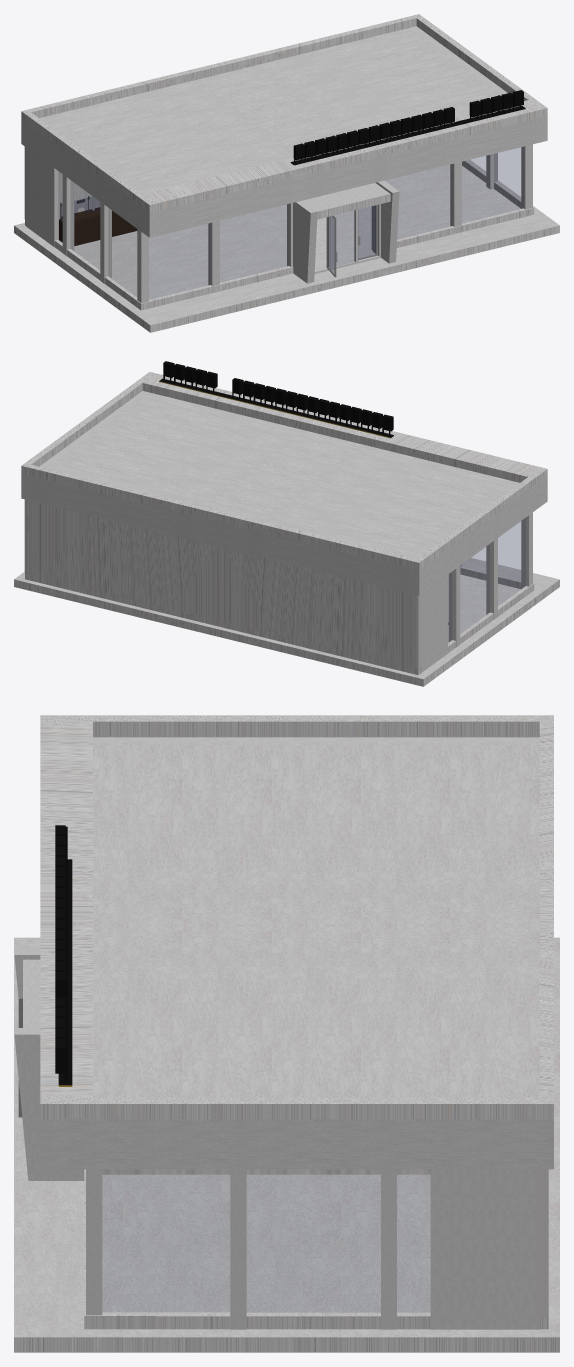
Rendered from Bank_all.FBX.
3 renders of one model, top to bottom at view 1: azimuth 30°, elevation 25°; view 2: azimuth 150°, elevation 25°; view 3: azimuth 270°, elevation 25°, orthographic. The views are drawn at different scales.
Visible parts, largest first — view 1: Sberkassa_01, SBERKASSA_SIGN_007, Окн, Cylinder041, Box10090, Box10091; view 2: Sberkassa_01, SBERKASSA_SIGN_007, Окн; view 3: Sberkassa_01, SBERKASSA_SIGN_007.
Boxes of the visible parts, <box> form: Sberkassa_01: <box>14,14,559,332</box>; SBERKASSA_SIGN_007: <box>290,90,525,165</box>; Окн: <box>465,147,521,203</box>; Cylinder041: <box>59,196,100,245</box>; Box10090: <box>358,205,377,260</box>; Box10091: <box>326,215,337,277</box>; Sberkassa_01: <box>14,372,559,686</box>; SBERKASSA_SIGN_007: <box>159,361,393,438</box>; Окн: <box>460,521,521,582</box>; Sberkassa_01: <box>14,715,559,1352</box>; SBERKASSA_SIGN_007: <box>55,825,72,1086</box>.
Size of the model in its own units: 2036 by 1175 by 664.
10 materials, 1 textured.
